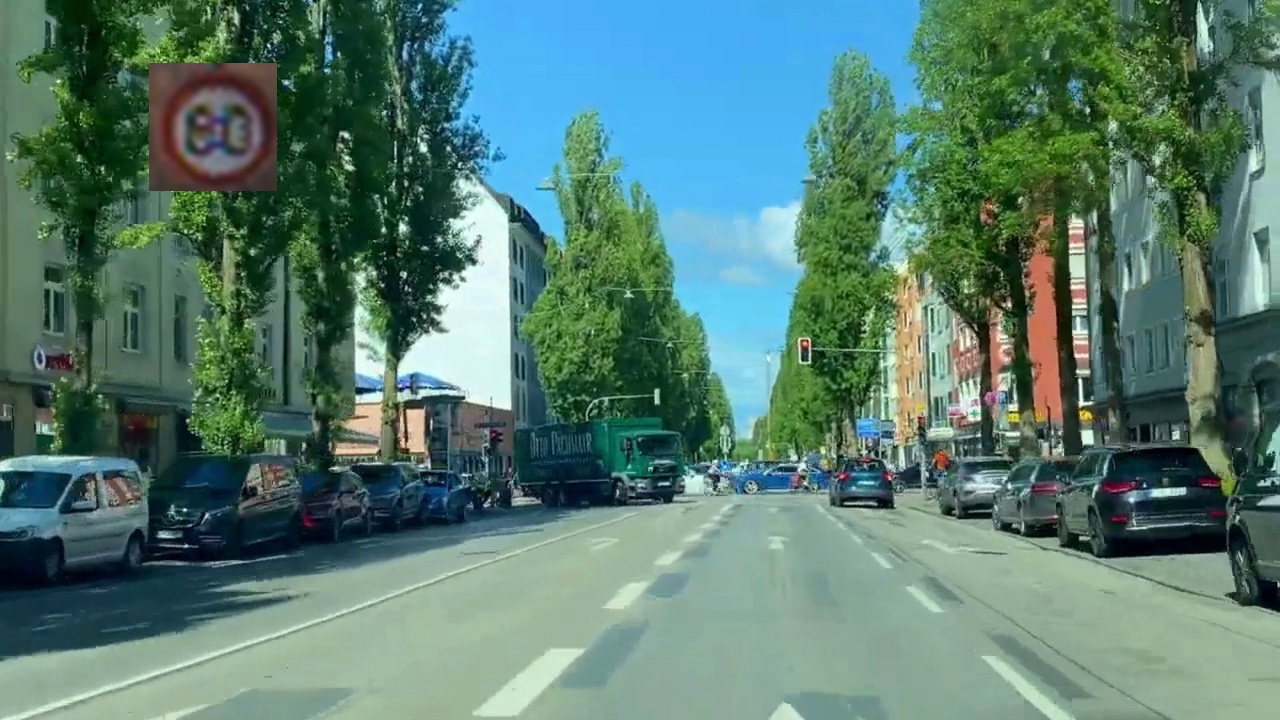Speed 80: (149, 63, 277, 191)
